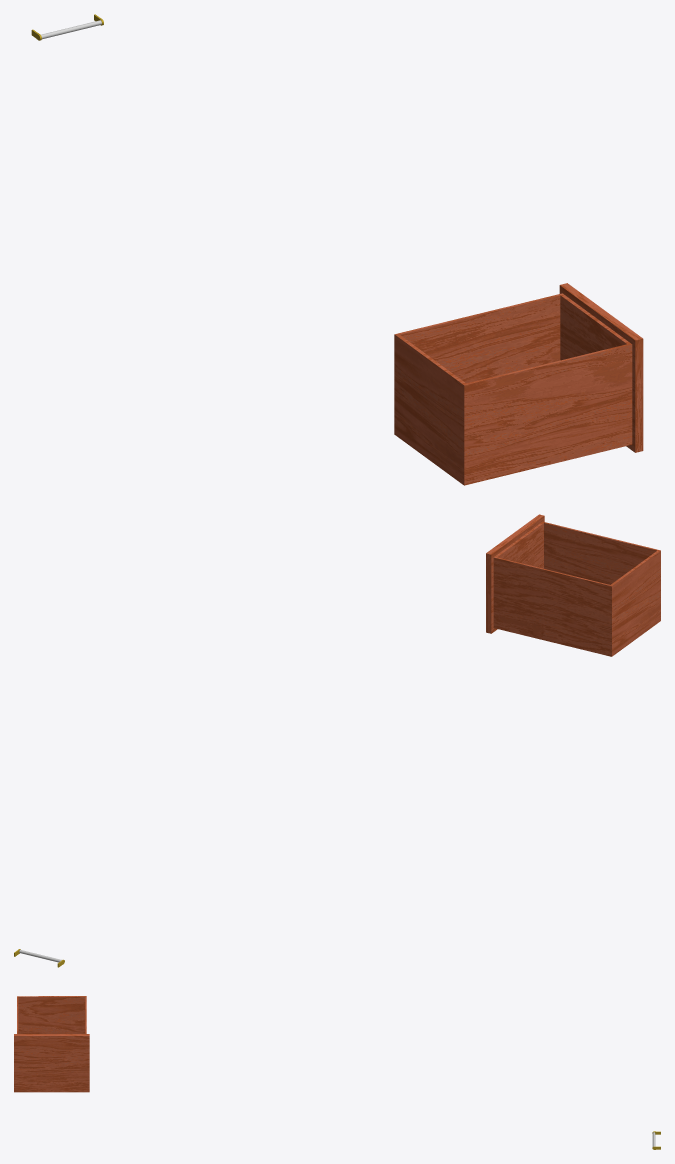
Rendered from Drawer_a74d6668.obj.
The picture shows the model from 3 angles, top to bottom: view 1: azimuth 30°, elevation 25°; view 2: azimuth 150°, elevation 25°; view 3: azimuth 270°, elevation 25°; orthographic projection. The views are drawn at different scales.
Visible parts, largest first — view 1: DrawerMesh_01_681ccfbd; view 2: DrawerMesh_01_681ccfbd; view 3: DrawerMesh_01_681ccfbd.
Part boxes in pixels (x1=…): DrawerMesh_01_681ccfbd: x1=394, y1=283, x2=643, y2=485; DrawerMesh_01_681ccfbd: x1=486, y1=514, x2=660, y2=656; DrawerMesh_01_681ccfbd: x1=14, y1=996, x2=89, y2=1092.
Size of the model in its own units: 0.7672 by 0.4771 by 3.12.
